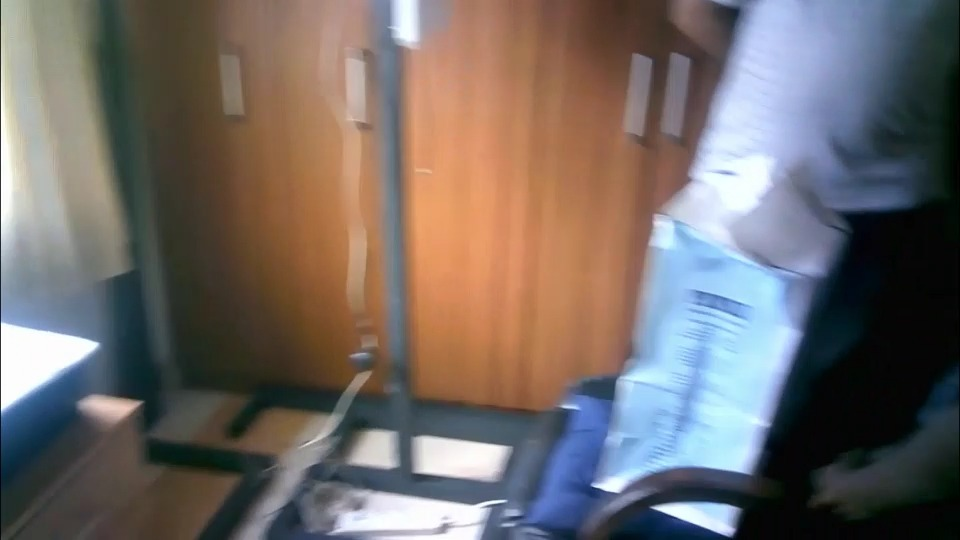wheat_flour_blue_label: (586, 162, 793, 535)
